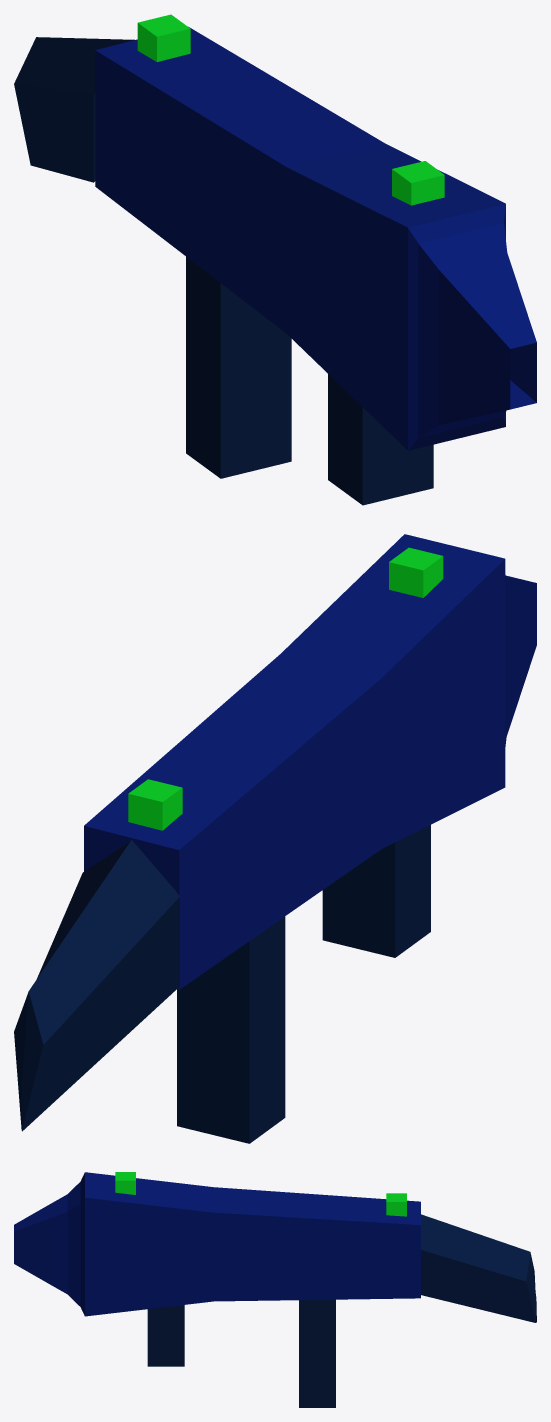
Rendered from smglol.glb.
3 renders of one model, top to bottom at view 1: azimuth 30°, elevation 25°; view 2: azimuth 150°, elevation 25°; view 3: azimuth 270°, elevation 25°, orthographic. The views are drawn at different scales.
Visible parts, largest first — view 1: Cube.001, Cube, Cube.002, Cube.005, Cube.004, Cube.003; view 2: Cube.001, Cube.002, Cube, Cube.005, Cube.004, Cube.003; view 3: Cube.001, Cube.002, Cube, Cube.005, Cube.004, Cube.003.
Boxes of the visible parts, left/top/right/bottom form: Cube.001: left=95, top=26, right=536, bottom=450; Cube: left=186, top=257, right=291, bottom=478; Cube.002: left=14, top=37, right=134, bottom=182; Cube.005: left=328, top=374, right=433, bottom=505; Cube.004: left=137, top=14, right=190, bottom=61; Cube.003: left=392, top=161, right=444, bottom=205; Cube.001: left=84, top=534, right=536, bottom=989; Cube.002: left=14, top=840, right=179, bottom=1131; Cube: left=177, top=916, right=285, bottom=1143; Cube.005: left=322, top=825, right=430, bottom=957; Cube.004: left=128, top=779, right=182, bottom=830; Cube.003: left=389, top=547, right=443, bottom=597; Cube.001: left=14, top=1172, right=420, bottom=1316; Cube.002: left=417, top=1213, right=536, bottom=1322; Cube: left=299, top=1299, right=335, bottom=1407; Cube.005: left=147, top=1305, right=184, bottom=1366; Cube.004: left=386, top=1193, right=406, bottom=1216; Cube.003: left=115, top=1172, right=135, bottom=1194.
Size of the model in its own units: 0.3705 by 1.5 by 3.21.
